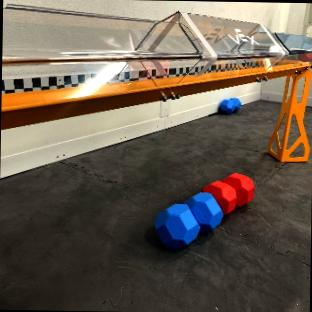V5_BLUE: (155, 192, 221, 248), (219, 98, 240, 113)
V5_RED: (202, 173, 254, 213)
